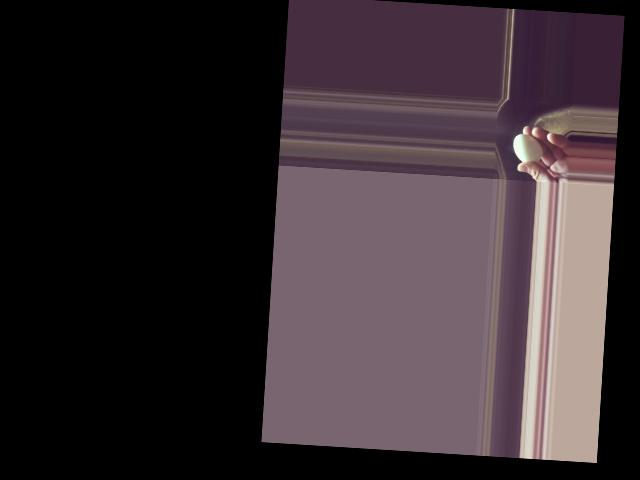egg: (512, 134, 543, 164)
